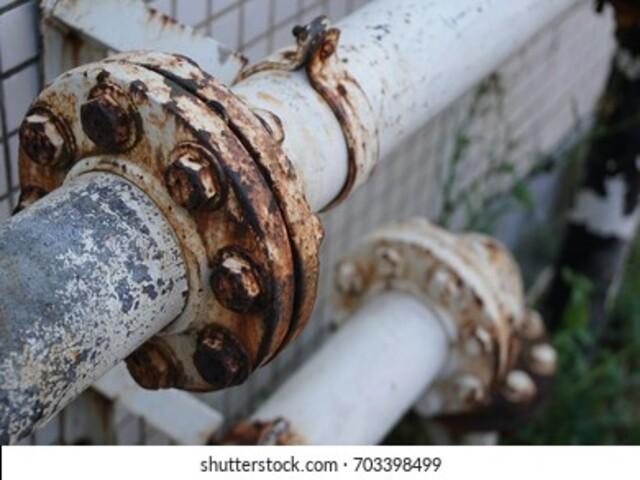Moderate: (21, 25, 367, 395)
